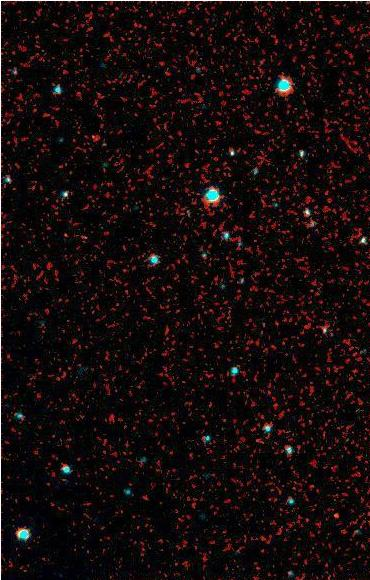star: (322, 500, 352, 530)
